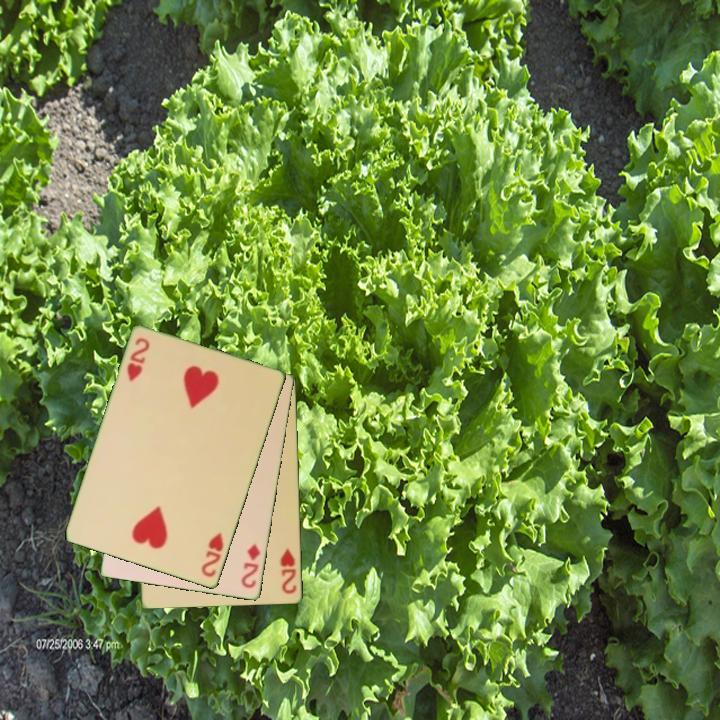2d: (238, 541, 263, 591)
2h: (198, 529, 227, 580), (124, 334, 153, 385), (277, 545, 300, 597)
